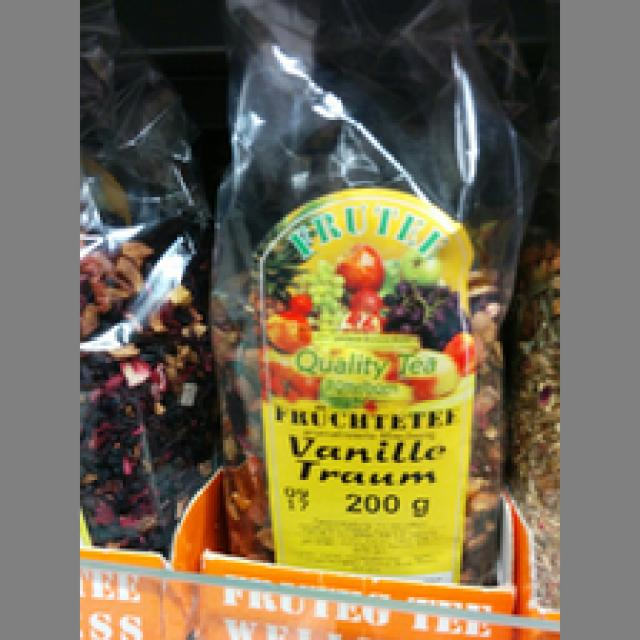groceries: (197, 3, 543, 580), (80, 3, 206, 548)
